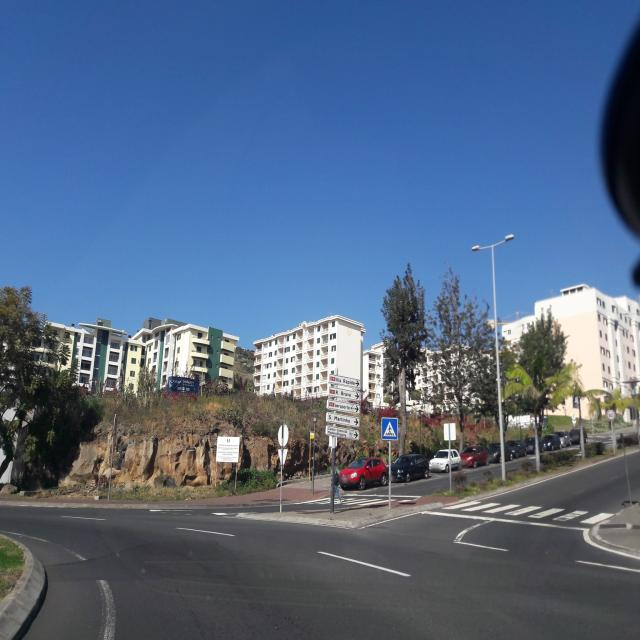car: (338, 456, 388, 492), (388, 453, 431, 483), (429, 448, 461, 474), (459, 444, 490, 468), (487, 441, 512, 463), (506, 439, 526, 459), (569, 428, 589, 446), (524, 436, 544, 454), (541, 434, 562, 451), (554, 430, 572, 448)
